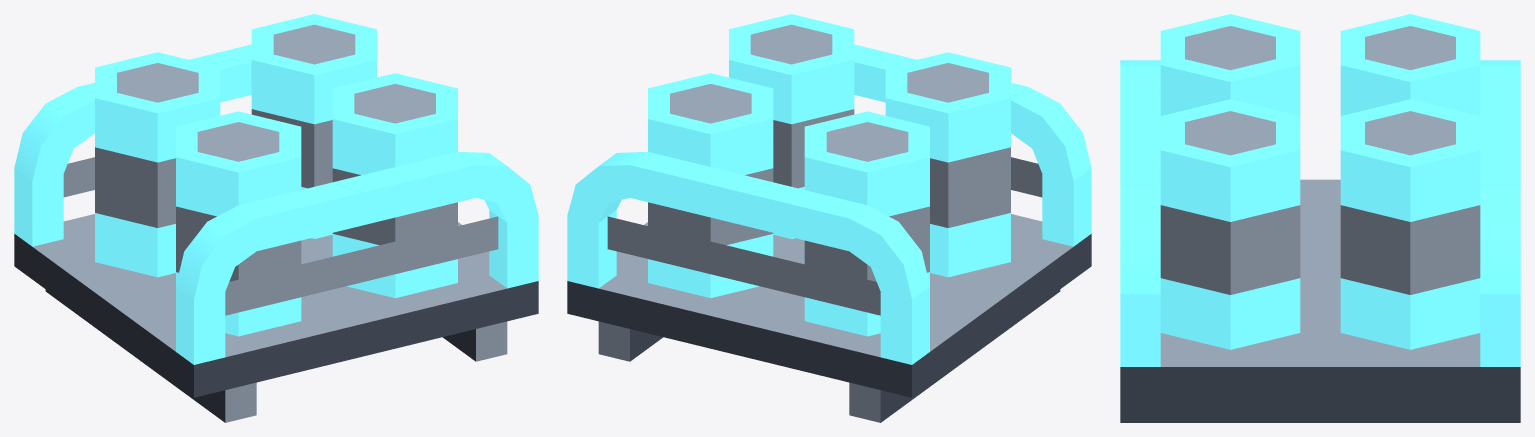
File: barrels_rail.glb
The picture shows the model from 3 angles, left to right: view 1: azimuth 30°, elevation 25°; view 2: azimuth 150°, elevation 25°; view 3: azimuth 270°, elevation 25°; orthographic projection. The views are drawn at different scales.
Parts seen in each view (by area): view 1: barrels_rail, barrel.002, barrel, barrel.001, barrel.003; view 2: barrels_rail, barrel.001, barrel.003, barrel.002, barrel; view 3: barrels_rail, barrel, barrel.003, barrel.001, barrel.002.
Boxes of the visible parts, x1=… form: barrels_rail: x1=14, y1=44, x2=538, y2=422; barrel.002: x1=95, y1=52, x2=220, y2=277; barrel: x1=332, y1=73, x2=457, y2=298; barrel.001: x1=176, y1=111, x2=301, y2=336; barrel.003: x1=251, y1=14, x2=376, y2=238; barrels_rail: x1=567, y1=44, x2=1091, y2=422; barrel.001: x1=885, y1=52, x2=1010, y2=277; barrel.003: x1=648, y1=73, x2=773, y2=298; barrel.002: x1=804, y1=111, x2=929, y2=336; barrel: x1=729, y1=14, x2=854, y2=238; barrels_rail: x1=1120, y1=60, x2=1520, y2=422; barrel: x1=1160, y1=99, x2=1300, y2=349; barrel.003: x1=1340, y1=99, x2=1480, y2=349; barrel.001: x1=1160, y1=14, x2=1300, y2=115; barrel.002: x1=1340, y1=14, x2=1480, y2=115.
Bounding box in the file's own units: 0.55 × 0.35 × 0.4964.
